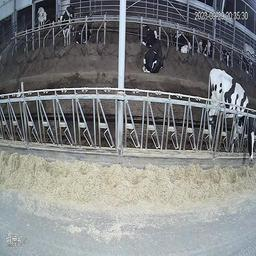cow: (215, 68, 254, 172), (143, 34, 163, 75), (171, 26, 195, 59), (58, 1, 75, 46), (138, 19, 159, 48), (76, 22, 93, 48), (220, 43, 234, 71), (197, 35, 212, 60), (35, 3, 47, 33)
